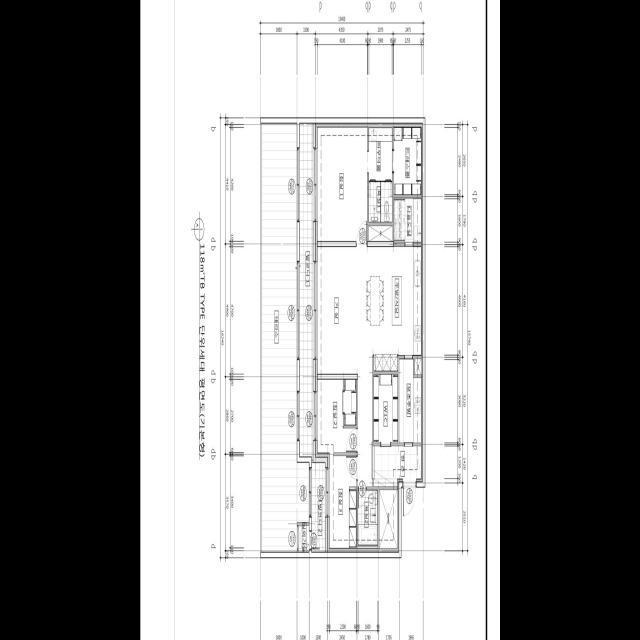background: (140, 0, 500, 640)
space_balconi: (299, 123, 313, 460), (311, 462, 325, 552)
space_bedroom: (315, 127, 367, 242), (315, 380, 356, 453), (327, 456, 356, 548)
space_dressroom: (393, 127, 421, 195)
space_front: (373, 446, 421, 487)
space_kitchen: (366, 247, 421, 371), (399, 359, 421, 443)
space_living_room: (315, 247, 372, 487)
space_other: (373, 374, 397, 443), (393, 198, 421, 243), (369, 128, 392, 180), (379, 490, 397, 548), (368, 225, 392, 241), (414, 359, 421, 375)
space_outdoor_room: (298, 525, 309, 552)
space_toilet: (358, 490, 377, 546), (368, 182, 392, 222)
